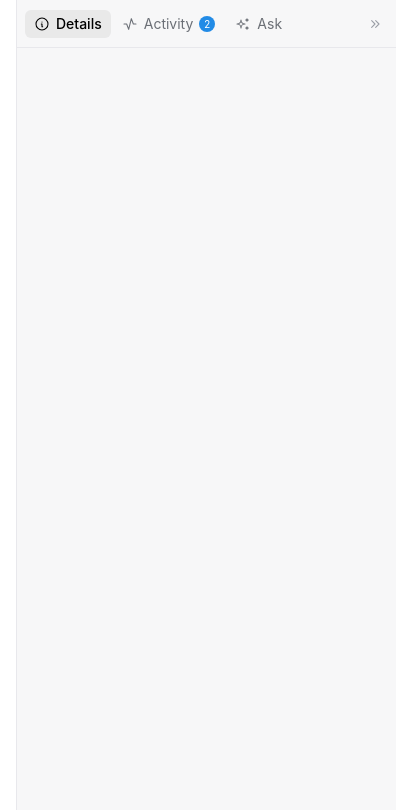
Test: activity unread badge › counts events while Activity is hidden and clears when shown
Later steps or results of the test are not shown.
Expected: the text named "2 unread" is shown, [199,16,215,32]
Click the tab "Activity 2": (168, 24) [113,10,224,38]
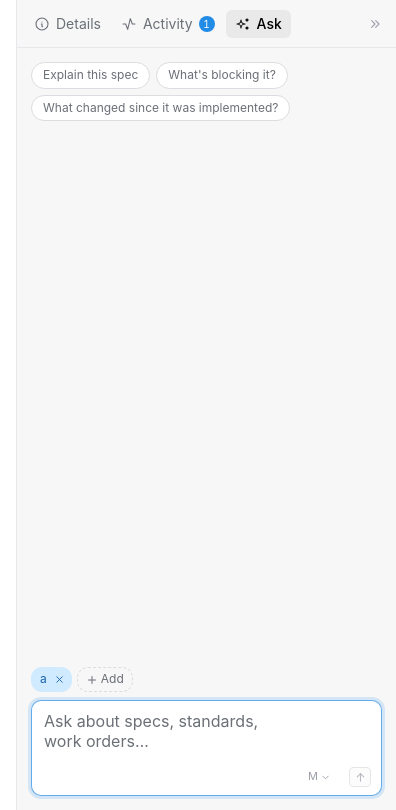
Result: the text named "1 unread" is shown at [199,16,215,32]
